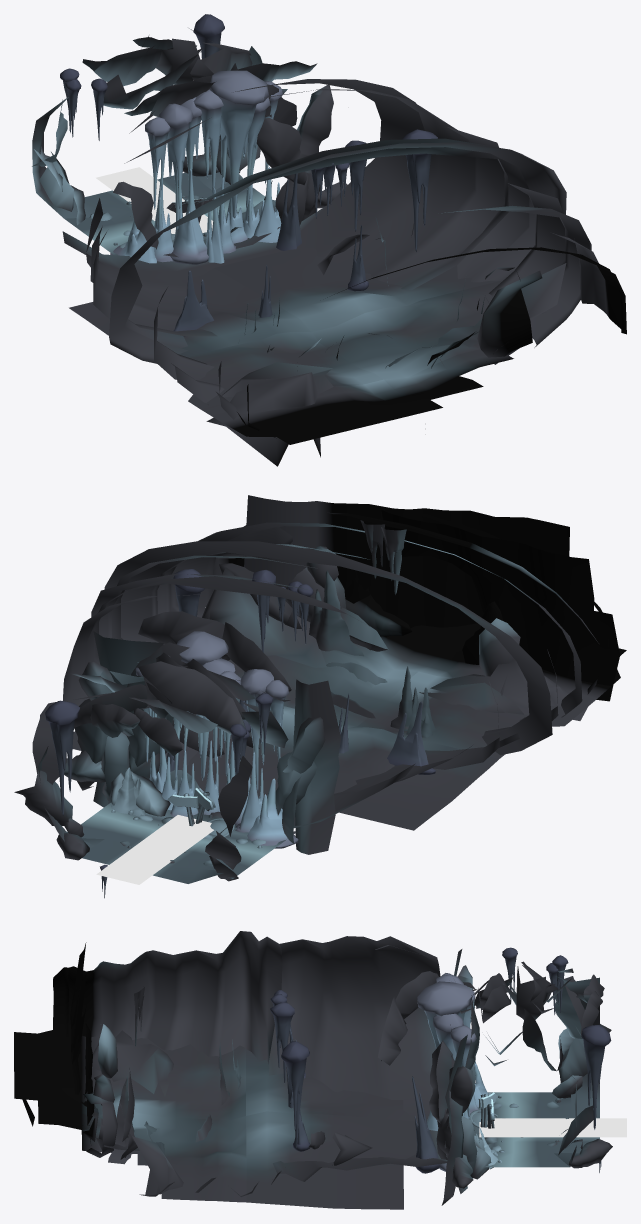
File: Arctic_Tunnels_T_Junction_C.glb
The picture shows the model from 3 angles, top to bottom: view 1: azimuth 30°, elevation 25°; view 2: azimuth 150°, elevation 25°; view 3: azimuth 270°, elevation 25°; orthographic projection. The views are drawn at different scales.
Visible parts, largest first — view 1: Arctic_Tunnels_T_Junction_C, Arctic_Tunnels_Icicle_Bright_A04, Arctic_Tunnels_Icicle_Bright_A07, Arctic_Tunnels_Icicle_Bright_A03 (3), turnHighlight, Arctic_Tunnels_Icicle_Shadow_A07 (2), Arctic_Tunnels_Icicle_Bright_A05, Arctic_Tunnels_Icicle_Shadow_A08 (1), Arctic_Tunnels_Icicle_Shadow_A07, Arctic_Tunnels_Icicle_Bright_A08, Arctic_Tunnels_Icicle_Bright_A05 (3), Arctic_Tunnels_Icicle_Shadow_A02 (+7 smaller); view 2: Arctic_Tunnels_T_Junction_C, turnHighlight, Arctic_Tunnels_Icicle_Shadow_A02, Arctic_Tunnels_Icicle_Bright_A04, Arctic_Tunnels_Icicle_Bright_A04 (3), Arctic_Tunnels_Icicle_Shadow_A08 (1), Arctic_Tunnels_Icicle_Bright_A07, Arctic_Tunnels_Icicle_Bright_A03 (2), Arctic_Tunnels_Icicle_Shadow_A07 (2), Arctic_Tunnels_Icicle_Shadow_A07 (5), Arctic_Tunnels_Icicle_Bright_A08, Arctic_Tunnels_Icicle_Bright_A03 (4) (+1 smaller); view 3: Arctic_Tunnels_T_Junction_C, turnHighlight, Arctic_Tunnels_Icicle_Bright_A04, Arctic_Tunnels_Icicle_Shadow_A02, Arctic_Tunnels_Icicle_Shadow_A07 (2), Arctic_Tunnels_Icicle_Shadow_A07, Arctic_Tunnels_Icicle_Shadow_A07 (5), Arctic_Tunnels_Icicle_Bright_A02, Arctic_Tunnels_Icicle_Bright_A02 (1).
Part boxes in pixels (box(x1,y1,x2,y2)): Arctic_Tunnels_T_Junction_C: box(32, 28, 626, 466); Arctic_Tunnels_Icicle_Bright_A04: box(209, 70, 269, 220); Arctic_Tunnels_Icicle_Bright_A07: box(159, 103, 193, 231); Arctic_Tunnels_Icicle_Bright_A03 (3): box(170, 168, 208, 264); turnHighlight: box(96, 167, 213, 233); Arctic_Tunnels_Icicle_Shadow_A07 (2): box(402, 129, 437, 251); Arctic_Tunnels_Icicle_Bright_A05: box(193, 89, 223, 194); Arctic_Tunnels_Icicle_Shadow_A08 (1): box(173, 270, 213, 336); Arctic_Tunnels_Icicle_Shadow_A07: box(276, 173, 301, 250); Arctic_Tunnels_Icicle_Bright_A08: box(145, 117, 170, 209); Arctic_Tunnels_Icicle_Bright_A05 (3): box(254, 167, 281, 242); Arctic_Tunnels_Icicle_Shadow_A02: box(193, 14, 224, 58); Arctic_Tunnels_T_Junction_C: box(14, 495, 626, 883); turnHighlight: box(96, 815, 213, 884); Arctic_Tunnels_Icicle_Shadow_A02: box(45, 700, 79, 815); Arctic_Tunnels_Icicle_Bright_A04: box(176, 631, 228, 780); Arctic_Tunnels_Icicle_Bright_A04 (3): box(247, 778, 298, 848); Arctic_Tunnels_Icicle_Shadow_A08 (1): box(387, 701, 435, 774); Arctic_Tunnels_Icicle_Bright_A07: box(241, 669, 273, 791); Arctic_Tunnels_Icicle_Bright_A03 (2): box(235, 751, 263, 832); Arctic_Tunnels_Icicle_Shadow_A07 (2): box(173, 569, 204, 616); Arctic_Tunnels_Icicle_Shadow_A07 (5): box(252, 570, 275, 652); Arctic_Tunnels_Icicle_Bright_A08: box(265, 680, 288, 761); Arctic_Tunnels_Icicle_Bright_A03 (4): box(170, 750, 198, 816); Arctic_Tunnels_T_Junction_C: box(14, 931, 612, 1209); turnHighlight: box(479, 1118, 626, 1137); Arctic_Tunnels_Icicle_Bright_A04: box(417, 981, 474, 1048); Arctic_Tunnels_Icicle_Shadow_A02: box(581, 1025, 611, 1129); Arctic_Tunnels_Icicle_Shadow_A07 (2): box(281, 1041, 309, 1149); Arctic_Tunnels_Icicle_Shadow_A07: box(412, 1076, 439, 1173); Arctic_Tunnels_Icicle_Shadow_A07 (5): box(270, 1002, 294, 1083); Arctic_Tunnels_Icicle_Bright_A02: box(433, 1013, 464, 1060); Arctic_Tunnels_Icicle_Bright_A02 (1): box(450, 1025, 476, 1118).
Size of what is drawn, in the model's own units: 22.11 by 10.35 by 29.03.
